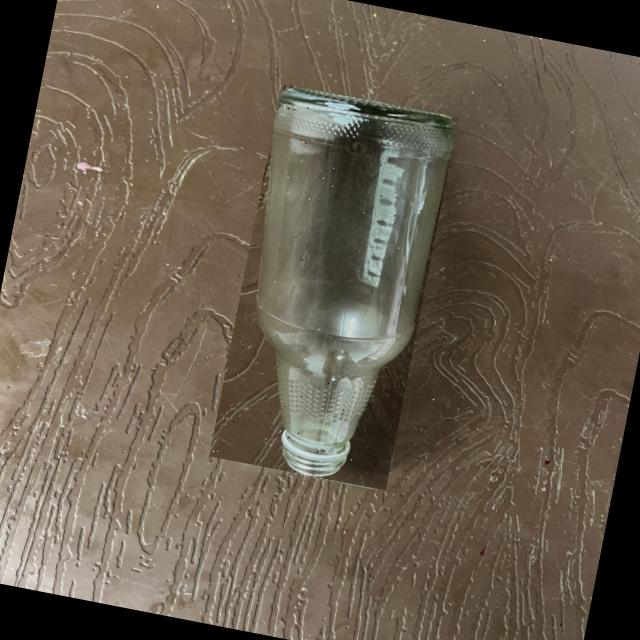Glass_Bottle: (256, 88, 453, 475)
